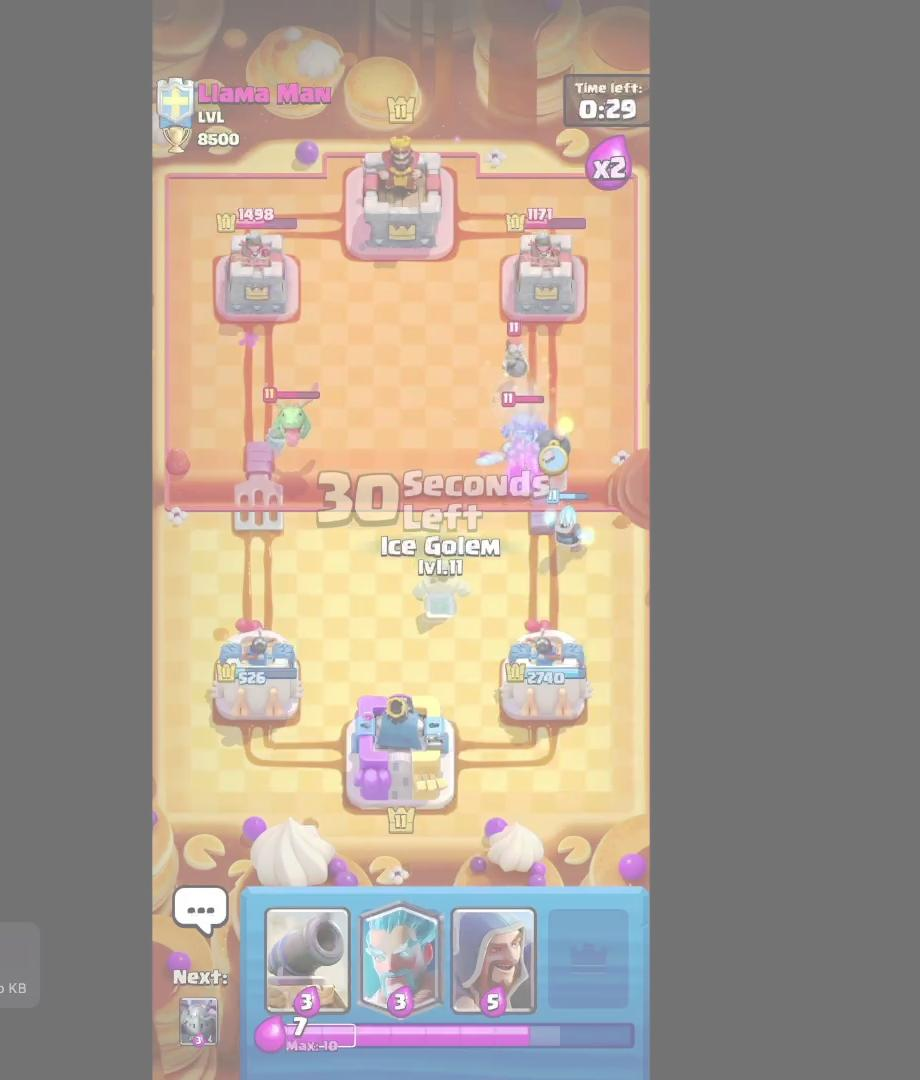Baby Dragon: (256, 381, 328, 443)
Bomber: (499, 320, 533, 384)
Mini Pekka: (500, 392, 548, 450)
